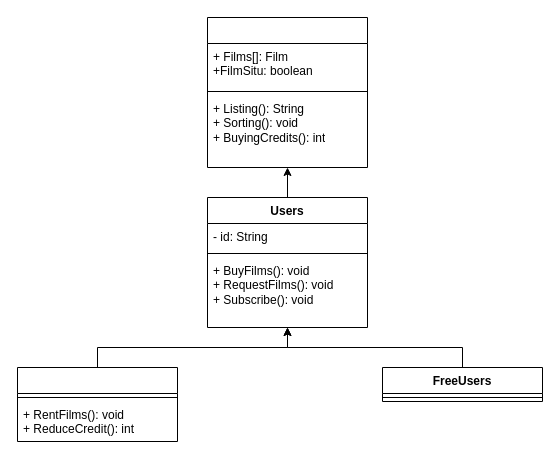
The diagram is 560 pixels wide and 462 high, and some of its shapes have lost their labels. Each missing label, with the box of its shape:
App: (206, 16, 368, 168)
Subscribers: (16, 366, 178, 442)
